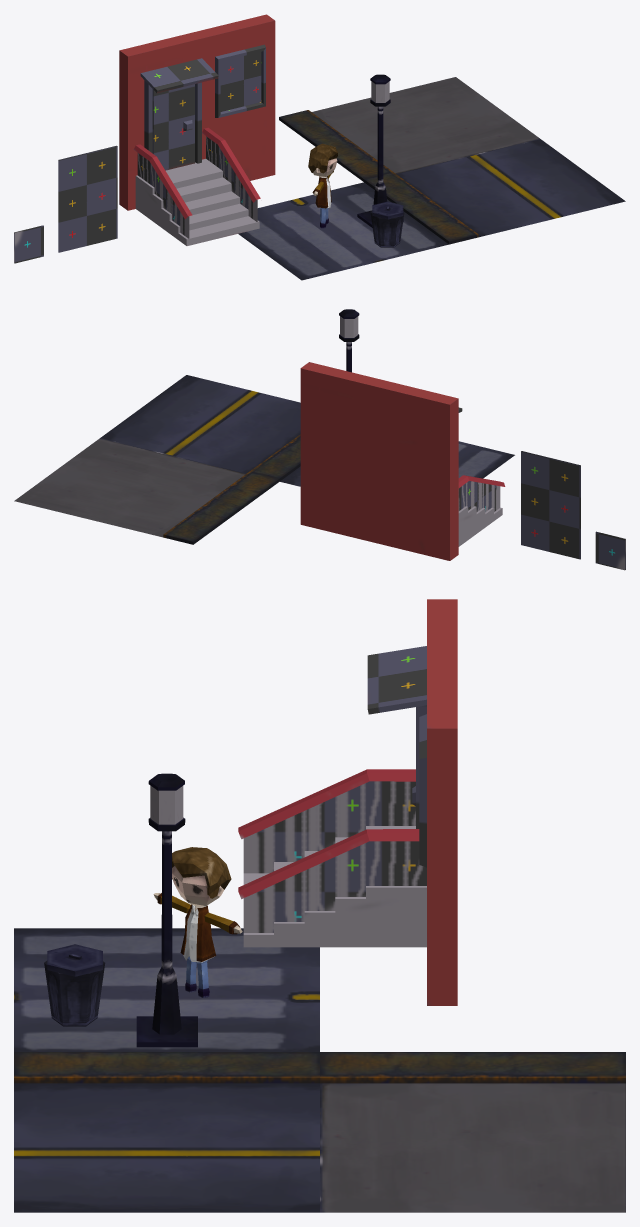
Rendered from buildingRedBrick.fbx.
The picture shows the model from 3 angles, top to bottom: view 1: azimuth 30°, elevation 25°; view 2: azimuth 150°, elevation 25°; view 3: azimuth 270°, elevation 25°; orthographic projection. The views are drawn at different scales.
Visible parts, largest first — view 1: SimpleWall, roadMiddle, roadCrossWalk, sideRoadWalk, Stair, FenceHigh, door, Window, sideRoad, sideRoad.001, DoorVisor, characterMesh.001 (+4 smaller); view 2: SimpleWall, roadCrossWalk, roadMiddle, FenceHigh, sideRoad.001, Stair, sideRoadWalk, sideRoad, FenceLow, LightingPole; view 3: roadCrossWalk, roadMiddle, Stair, sideRoadWalk, SimpleWall, sideRoad.001, sideRoad, characterMesh.001, LightingPole, DoorVisor, trashCan, trashCanCap (+2 smaller).
Boxes of the visible parts, <box> form: SimpleWall: <box>119,14,275,210</box>; roadMiddle: <box>397,139,625,237</box>; roadCrossWalk: <box>312,77,540,174</box>; sideRoadWalk: <box>238,182,448,280</box>; Stair: <box>133,127,260,245</box>; FenceHigh: <box>58,145,117,252</box>; door: <box>144,80,201,170</box>; Window: <box>215,44,265,117</box>; sideRoad: <box>364,172,478,244</box>; sideRoad.001: <box>279,110,392,181</box>; DoorVisor: <box>140,58,218,93</box>; characterMesh.001: <box>308,143,337,228</box>; SimpleWall: <box>300,362,458,560</box>; roadCrossWalk: <box>14,438,245,537</box>; roadMiddle: <box>100,375,300,473</box>; FenceHigh: <box>521,451,580,559</box>; sideRoad.001: <box>163,471,279,544</box>; Stair: <box>458,475,505,546</box>; sideRoadWalk: <box>280,441,514,486</box>; sideRoad: <box>250,434,300,481</box>; FenceLow: <box>595,531,625,570</box>; LightingPole: <box>339,309,359,372</box>; roadCrossWalk: <box>320,1083,625,1212</box>; roadMiddle: <box>14,1083,319,1212</box>; Stair: <box>238,769,426,947</box>; sideRoadWalk: <box>14,928,319,1051</box>; SimpleWall: <box>427,599,457,1005</box>; sideRoad.001: <box>320,1052,625,1083</box>; sideRoad: <box>14,1052,319,1083</box>; characterMesh.001: <box>153,847,242,997</box>; LightingPole: <box>136,773,197,1047</box>; DoorVisor: <box>367,646,426,714</box>; trashCan: <box>44,960,105,1026</box>; trashCanCap: <box>47,944,102,976</box>.
Bounding box in the file's own units: 3545 × 1000 × 2000.
Materials: 3 (3 with a texture image).
